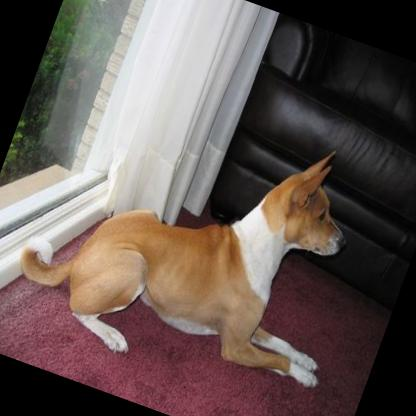basenji: (1, 60, 394, 416)
